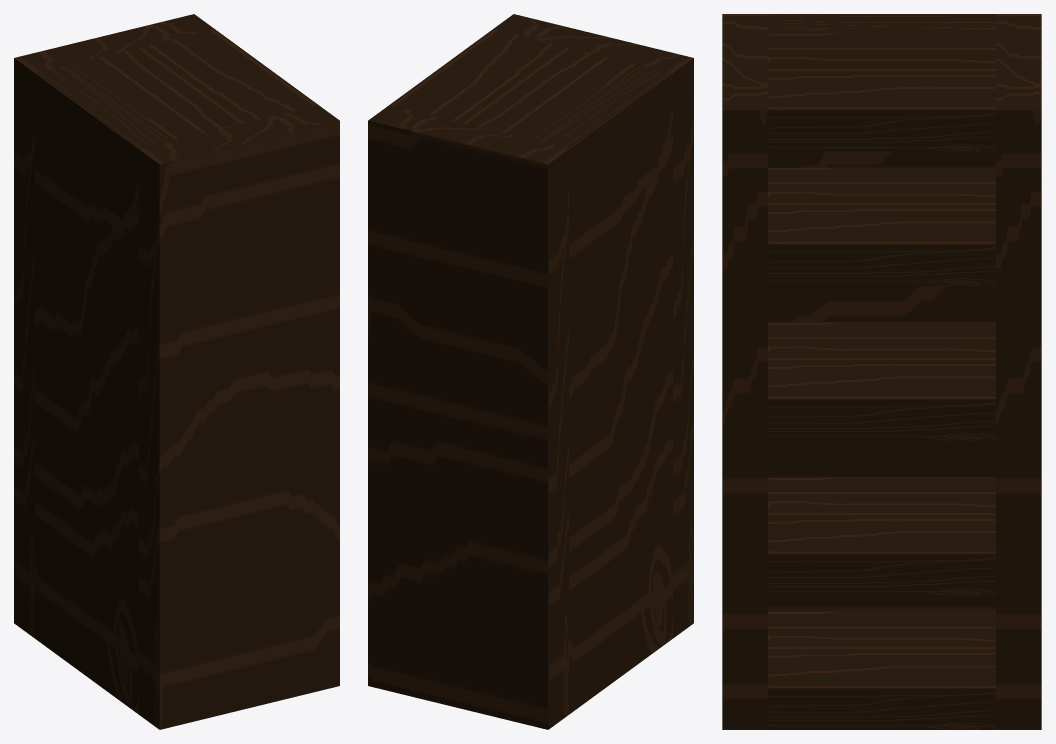
The model's file is Bookshelf.obj.
3 renders of one model, left to right at view 1: azimuth 30°, elevation 25°; view 2: azimuth 150°, elevation 25°; view 3: azimuth 270°, elevation 25°, orthographic. The views are drawn at different scales.
Visible parts, largest first — view 1: Side-2_Cube.007, Back_Cube, Side-1_Cube.006, Shelf-3_Cube.003; view 2: Side-1_Cube.006, Back_Cube, Side-2_Cube.007, Shelf-3_Cube.003; view 3: Side-1_Cube.006, Side-2_Cube.007, Back_Cube, Shelf-1_Cube.001, Shelf-2_Cube.002, Shelf-3_Cube.003, Shelf-4_Cube.004, Shelf-5_Cube.005.
Part boxes in pixels (left/top/right/bottom): Side-2_Cube.007: left=139, top=105, right=339, bottom=729; Back_Cube: left=35, top=64, right=174, bottom=714; Side-1_Cube.006: left=14, top=14, right=214, bottom=638; Shelf-3_Cube.003: left=71, top=29, right=318, bottom=140; Side-1_Cube.006: left=368, top=105, right=568, bottom=729; Back_Cube: left=533, top=64, right=672, bottom=714; Side-2_Cube.007: left=493, top=14, right=693, bottom=638; Shelf-3_Cube.003: left=389, top=29, right=636, bottom=140; Side-1_Cube.006: left=996, top=14, right=1041, bottom=729; Side-2_Cube.007: left=722, top=14, right=767, bottom=729; Back_Cube: left=768, top=14, right=995, bottom=611; Shelf-1_Cube.001: left=768, top=322, right=995, bottom=440; Shelf-2_Cube.002: left=768, top=167, right=995, bottom=285; Shelf-3_Cube.003: left=768, top=33, right=995, bottom=151; Shelf-4_Cube.004: left=768, top=477, right=995, bottom=595; Shelf-5_Cube.005: left=768, top=611, right=995, bottom=729.
Size of the model in its own units: 2 by 6 by 2.8.
